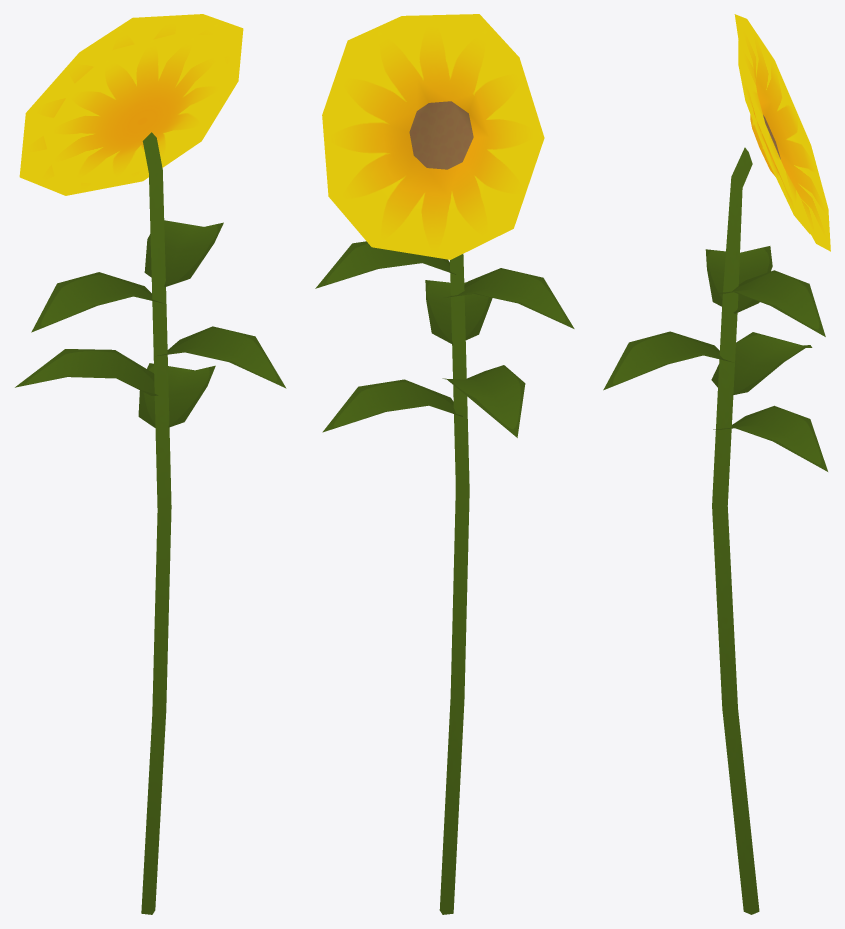
File: SM_Sunflower.fbx
3 views of the same model, side by side, from view 1: azimuth 30°, elevation 25°; view 2: azimuth 150°, elevation 25°; view 3: azimuth 270°, elevation 25° (orthographic). The views are drawn at different scales.
Visible parts, largest first — view 1: SM_Sunflower_LOD0; view 2: SM_Sunflower_LOD0; view 3: SM_Sunflower_LOD0.
Part boxes in pixels (x1,y1,x2,y2): SM_Sunflower_LOD0: (15, 14, 286, 914); SM_Sunflower_LOD0: (315, 14, 574, 914); SM_Sunflower_LOD0: (603, 14, 830, 914).
Size of the model in its own units: 33.2 by 28.97 by 124.
